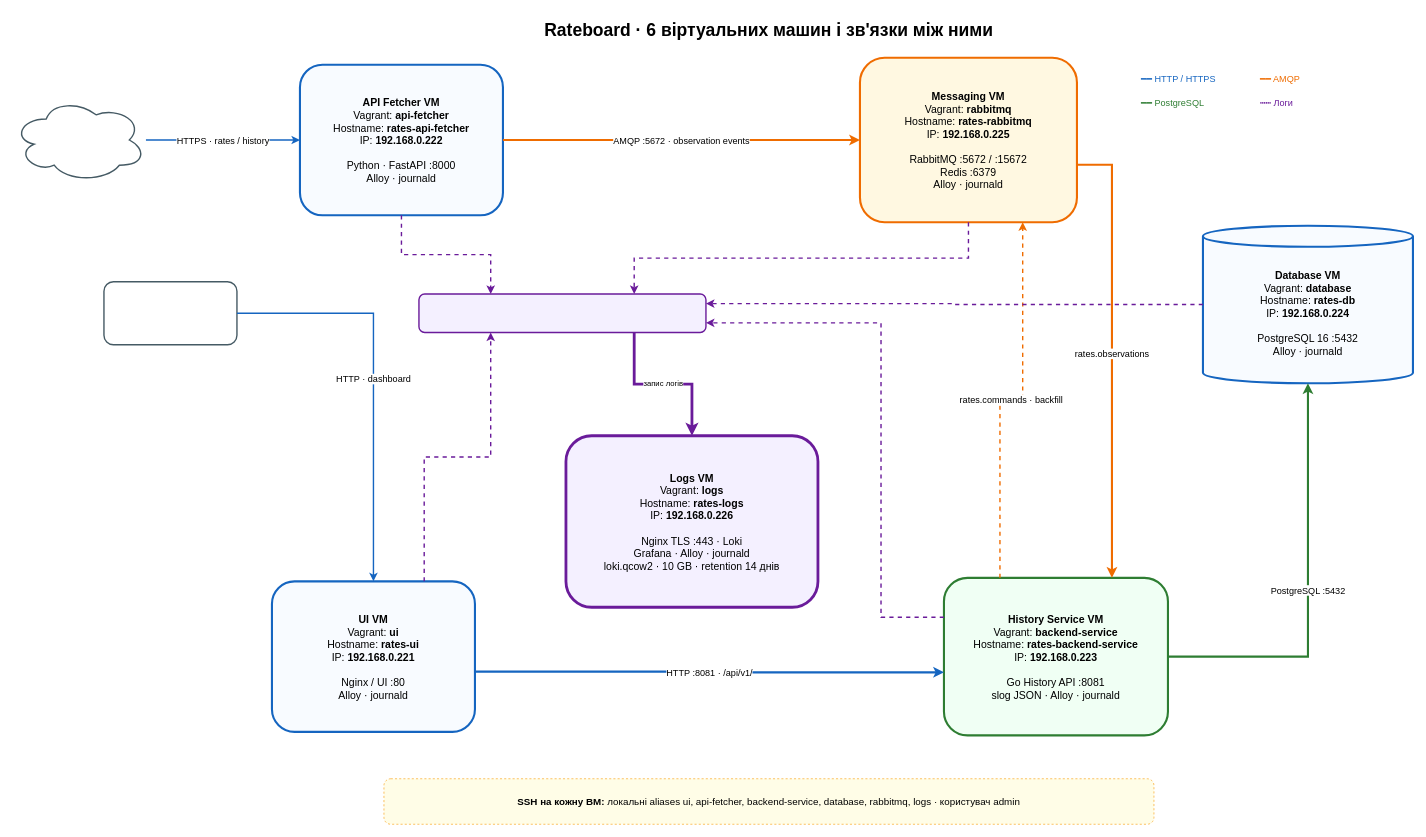
Some shapes in this 1426 by 837 pixel diagram are drawn without their labels. The box of each missing label's shape, as (x1, y1, x2, y2) in pixels:
Browser Користувач dashboard: (103, 281, 237, 345)
CoinGecko Frankfurter Зовнішні API: (12, 97, 146, 182)
HTTPS :443 · Alloy → Nginx → Loki · централізовані логи: (418, 293, 706, 333)
